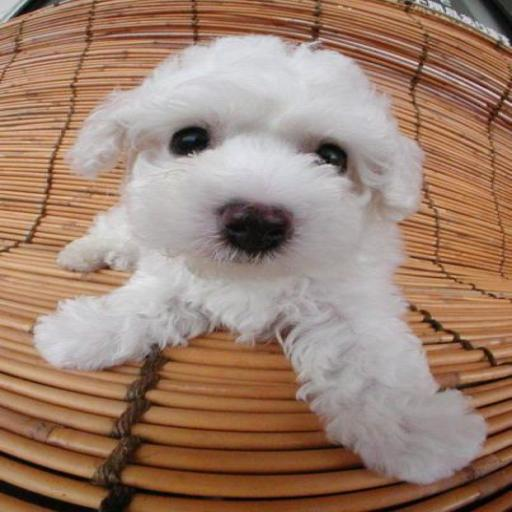dog_face: (80, 45, 408, 283)
